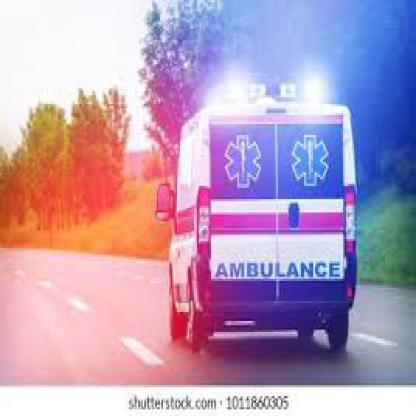Ambulance - v1 Ambulance last generate: (165, 80, 364, 352)
